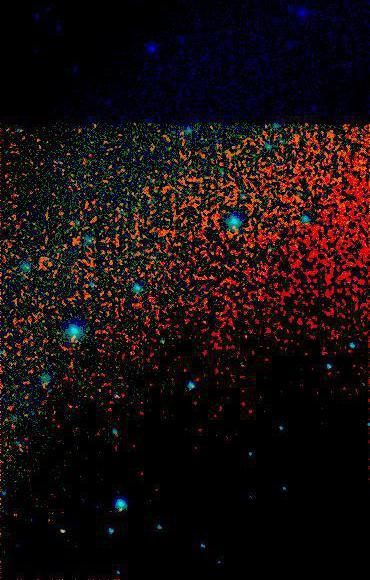star: (58, 324, 88, 354)
